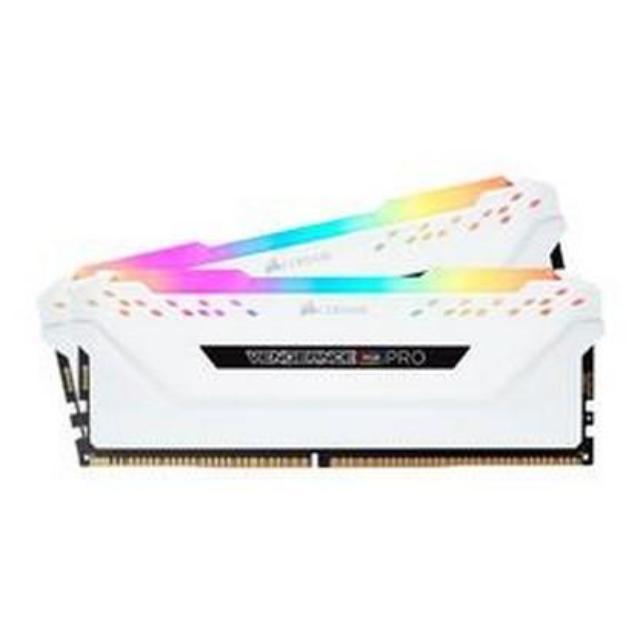RAM: (36, 173, 610, 482)
